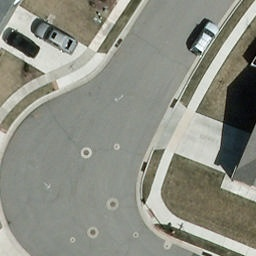car: (31, 22, 79, 55), (190, 22, 223, 60), (3, 32, 40, 60)
